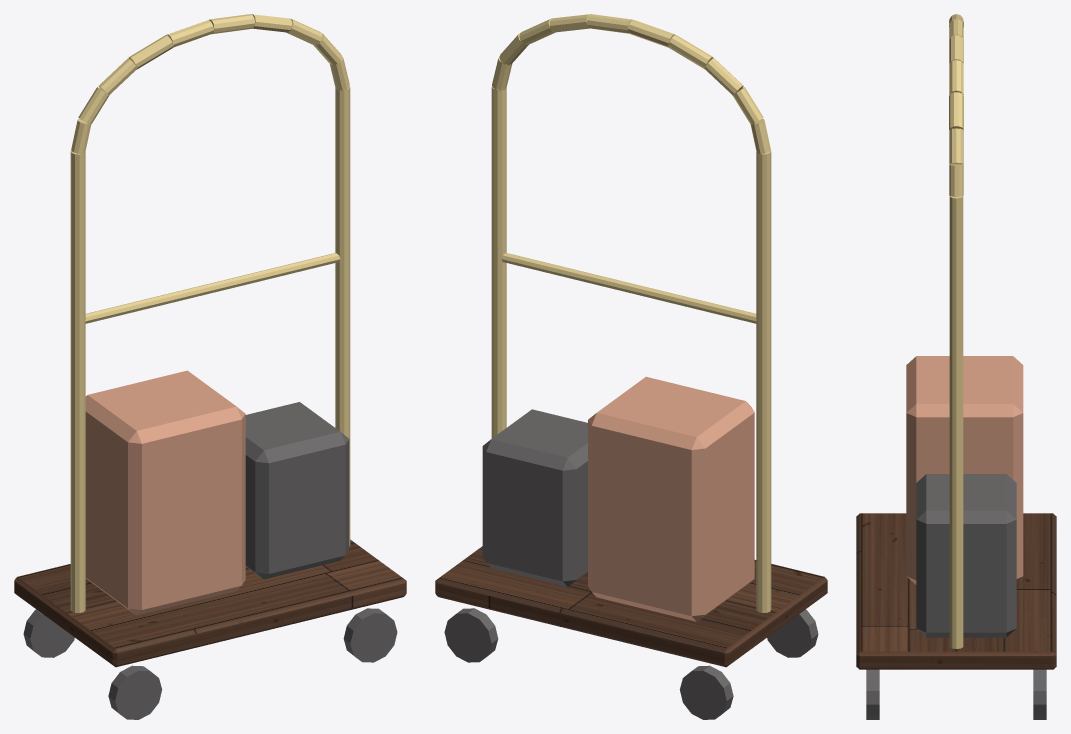
Rendered from luggage_cart.glb.
3 views of the same model, side by side, from view 1: azimuth 30°, elevation 25°; view 2: azimuth 150°, elevation 25°; view 3: azimuth 270°, elevation 25° (orthographic).
Visible parts, largest first — view 1: luggage_cart_fabric2, luggage_cart_dark, luggage_cart_gold, luggage_cart_dkwood; view 2: luggage_cart_fabric2, luggage_cart_dark, luggage_cart_gold, luggage_cart_dkwood; view 3: luggage_cart_dkwood, luggage_cart_dark, luggage_cart_fabric2, luggage_cart_gold.
Part boxes in pixels (<box>): luggage_cart_fabric2: <box>85,370,245,615</box>; luggage_cart_dark: <box>23,402,397,719</box>; luggage_cart_gold: <box>70,14,350,612</box>; luggage_cart_dkwood: <box>14,539,406,667</box>; luggage_cart_fabric2: <box>588,376,754,621</box>; luggage_cart_dark: <box>444,409,818,719</box>; luggage_cart_gold: <box>491,14,771,612</box>; luggage_cart_dkwood: <box>435,546,827,667</box>; luggage_cart_dkwood: <box>856,513,1056,669</box>; luggage_cart_dark: <box>866,474,1046,719</box>; luggage_cart_fabric2: <box>906,356,1023,584</box>; luggage_cart_gold: <box>949,14,963,648</box>.
Size of the model in its own units: 1 by 2.07 by 0.6.
4 materials, 1 textured.
